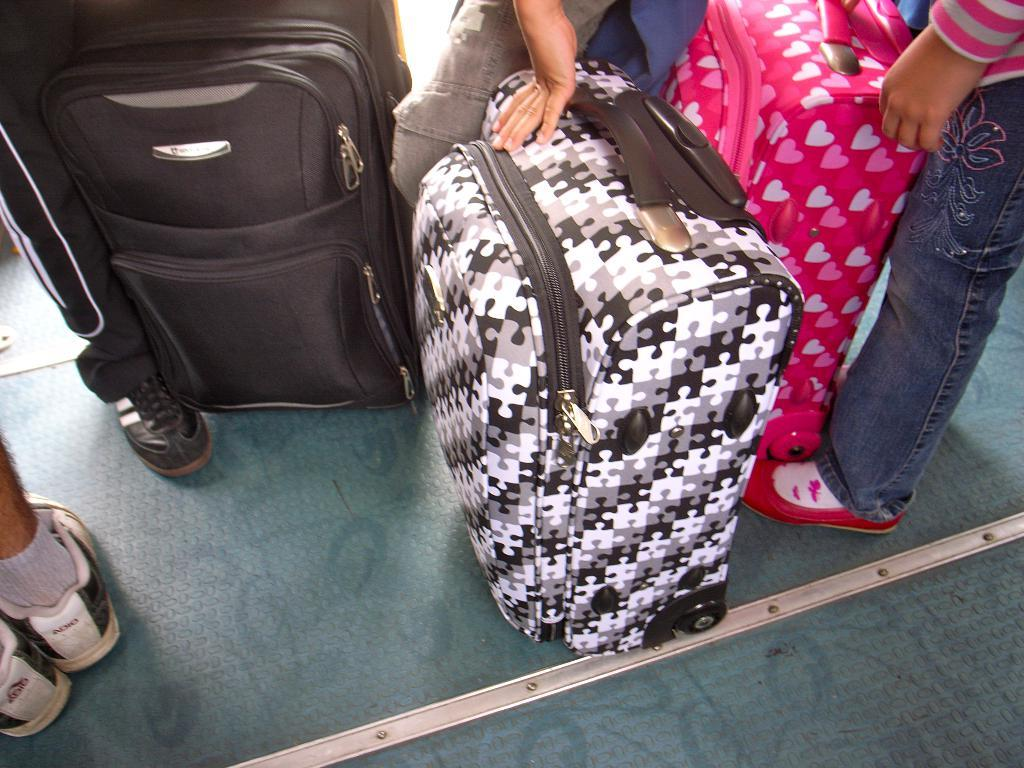Luggage-and-bags: (396, 79, 808, 609), (33, 0, 419, 413), (646, 0, 948, 479)
